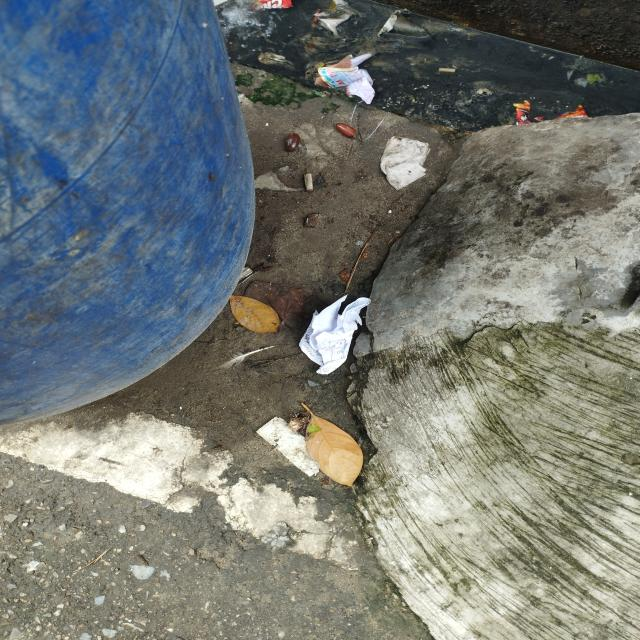paper: (297, 294, 368, 375)
